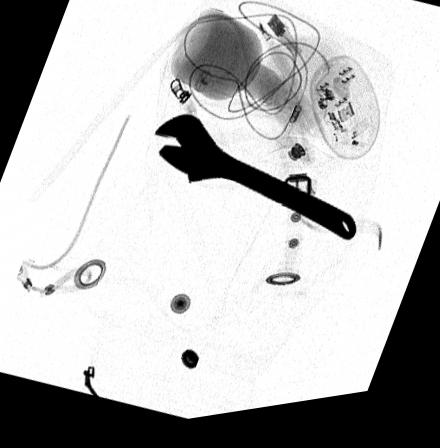Wrench: (151, 119, 358, 253)
